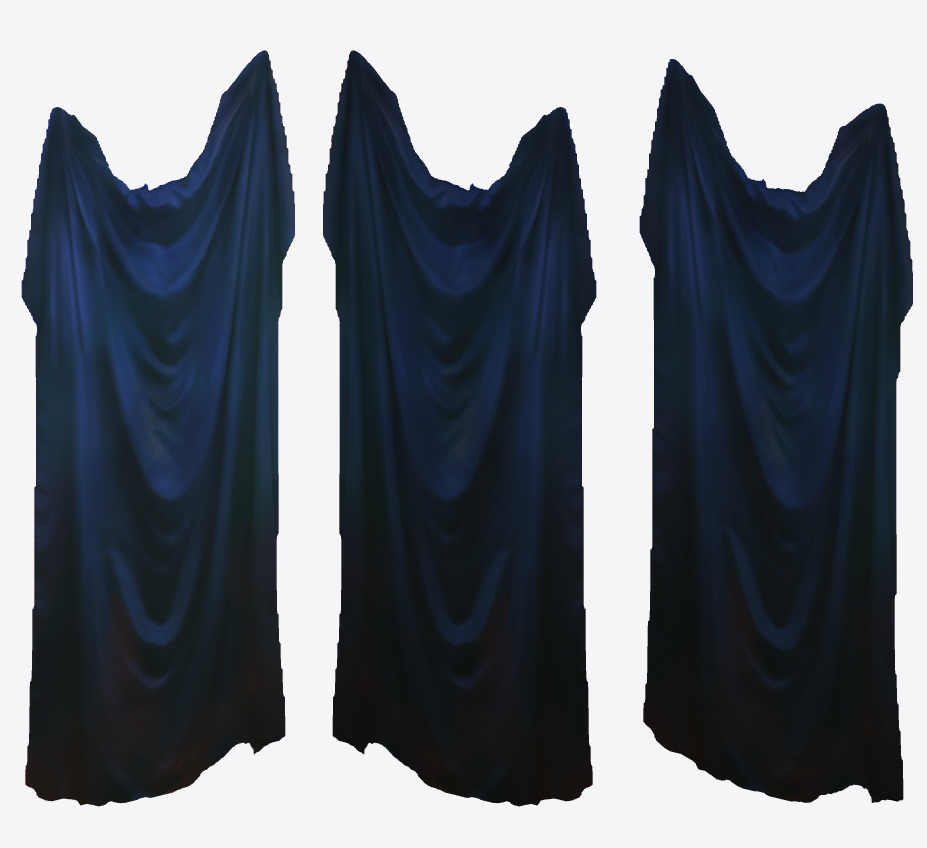
The model's file is flag006.FBX.
The picture shows the model from 3 angles, left to right: view 1: azimuth 30°, elevation 25°; view 2: azimuth 150°, elevation 25°; view 3: azimuth 330°, elevation 25°; orthographic projection.
Parts seen in each view (by area): view 1: flag006; view 2: flag006; view 3: flag006.
Part boxes in pixels (<box>): flag006: <box>21,50,294,806</box>; flag006: <box>323,50,596,806</box>; flag006: <box>639,59,912,802</box>.
Bounding box in the file's own units: 247 × 632 × 0.0257.
